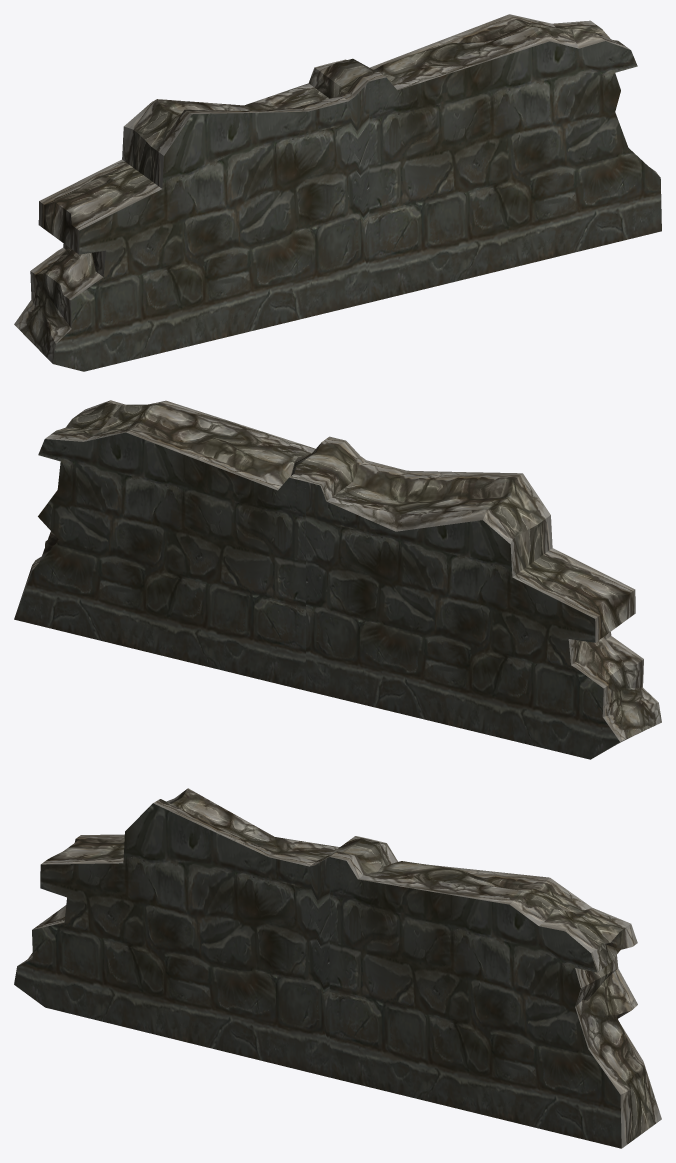
The model's file is Z_qiang002.fbx.
3 views of the same model, one above another, from view 1: azimuth 30°, elevation 25°; view 2: azimuth 150°, elevation 25°; view 3: azimuth 330°, elevation 25° (orthographic).
Visible parts, largest first — view 1: Z_qiang002; view 2: Z_qiang002; view 3: Z_qiang002.
Part boxes in pixels (<box>): Z_qiang002: <box>14,14,661,371</box>; Z_qiang002: <box>14,400,661,759</box>; Z_qiang002: <box>14,788,661,1148</box>.
Size of the model in its own units: 627 by 227 by 71.77.
